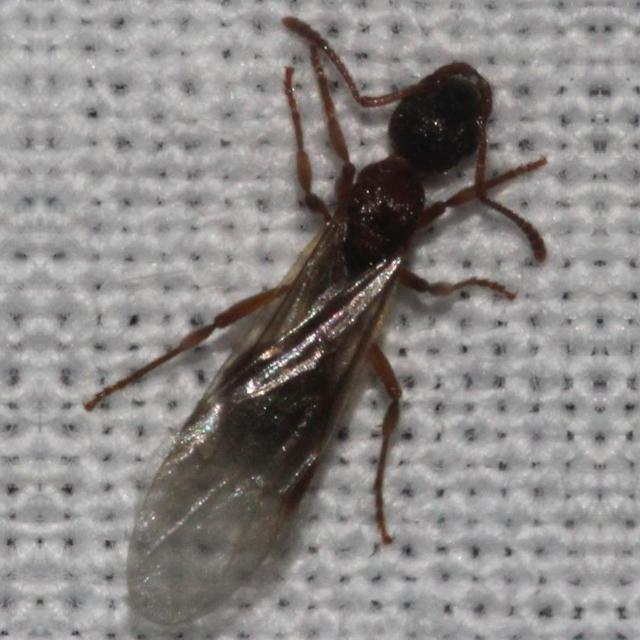Myrmica: (45, 21, 543, 626)
